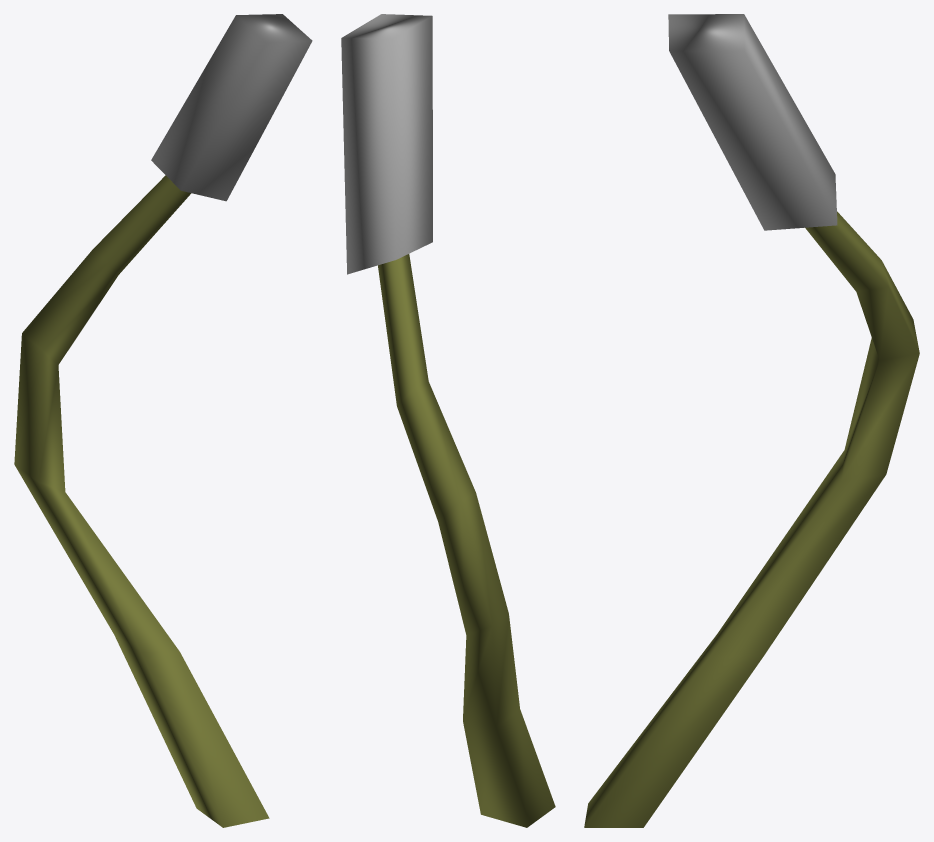
Rendered from YN_Grass10.fbx.
The picture shows the model from 3 angles, left to right: view 1: azimuth 30°, elevation 25°; view 2: azimuth 150°, elevation 25°; view 3: azimuth 270°, elevation 25°; orthographic projection. The views are drawn at different scales.
Parts seen in each view (by area): view 1: Grass10; view 2: Grass10; view 3: Grass10.
Part boxes in pixels (x1,y1,x2,y2): Grass10: (14, 14, 312, 827); Grass10: (341, 14, 555, 827); Grass10: (584, 14, 919, 827).
Bounding box in the file's own units: 0.2273 × 0.7892 × 0.2877.
